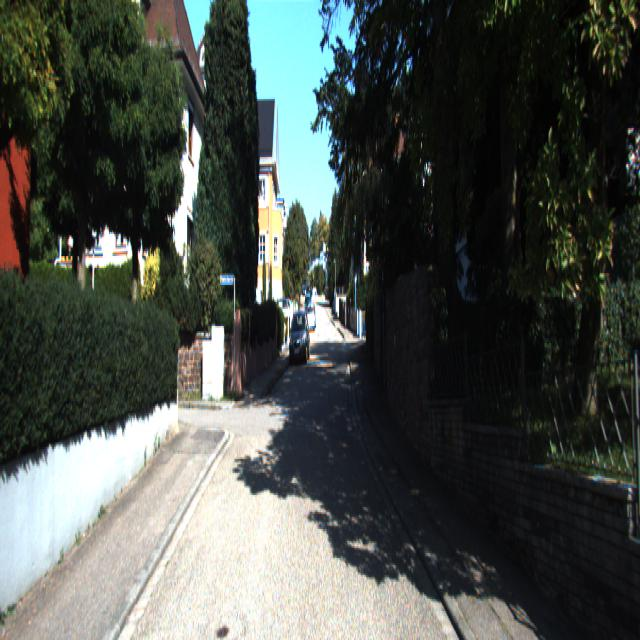Car: (288, 313, 311, 366)
